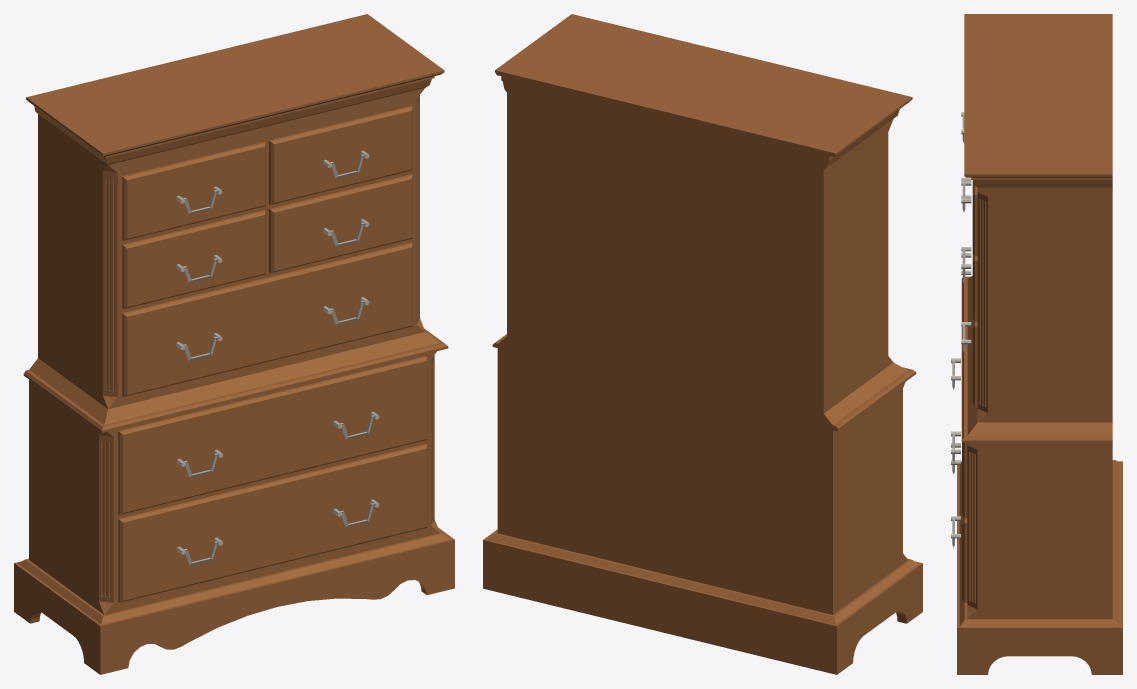
3 views of the same model, side by side, from view 1: azimuth 30°, elevation 25°; view 2: azimuth 150°, elevation 25°; view 3: azimuth 270°, elevation 25° (orthographic). The views are drawn at different scales.
Visible parts, largest first — view 1: Node; view 2: Node; view 3: Node.
Boxes of the visible parts, <box> form: Node: <box>14,14,454,674</box>; Node: <box>483,14,922,674</box>; Node: <box>951,14,1122,674</box>.
Size of the model in its own units: 38 by 52.94 by 16.56.
